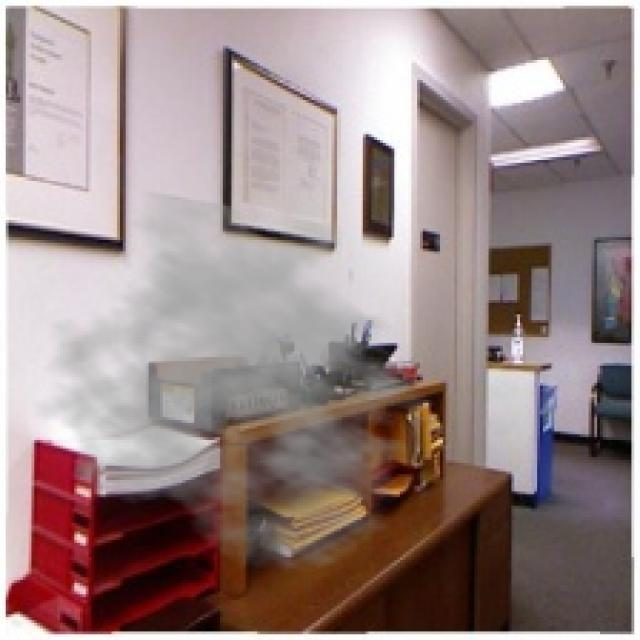Smoke: (28, 188, 454, 574)
